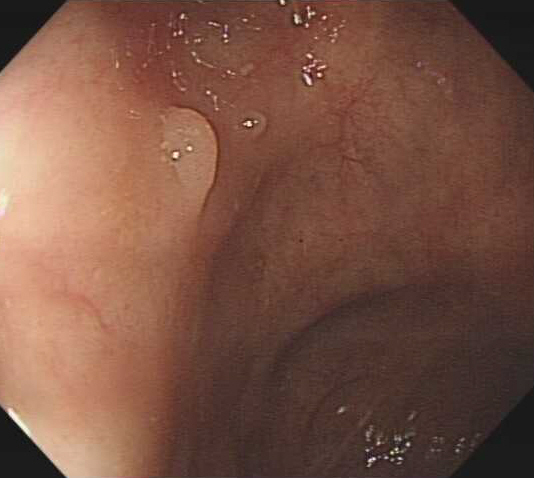others: (157, 104, 221, 215)
